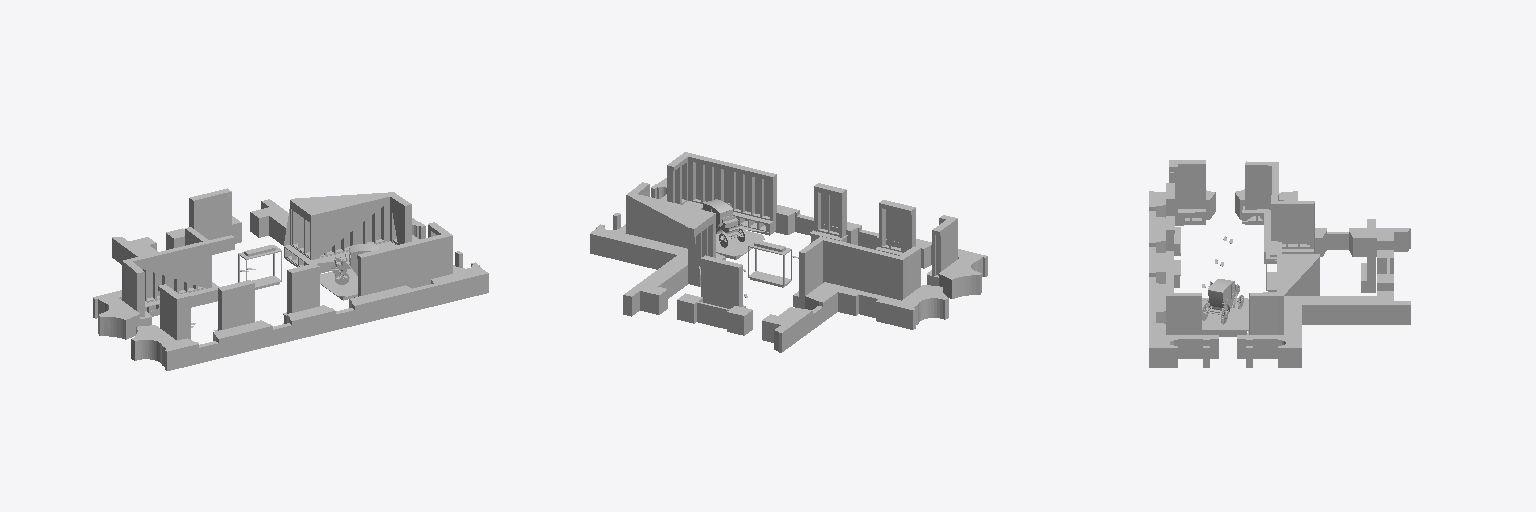
Rendered from 3Dsala.obj.
3 views of the same model, side by side, from view 1: azimuth 30°, elevation 25°; view 2: azimuth 150°, elevation 25°; view 3: azimuth 270°, elevation 25° (orthographic).
Visible parts, largest first — view 1: 12, Object_11_Object_11.001, Object_9_Object_9.001, Object_4_Object_4.001, Object_14_Object_14.001, Object_10_Object_10.001, Object_8_Object_8.001, Object_3_Object_3.001, Object_13_Object_13.001; view 2: 12, Object_10_Object_10.001, Object_4_Object_4.001, Object_13_Object_13.001, Object_9_Object_9.001, Object_3_Object_3.001, Object_11_Object_11.001; view 3: 12, Object_10_Object_10.001, Object_11_Object_11.001, Object_3_Object_3.001, Object_4_Object_4.001, Object_13_Object_13.001, Object_9_Object_9.001, Object_14_Object_14.001.
Part boxes in pixels (x1,y1,x2,y2): 12: (122, 188, 452, 340); Object_11_Object_11.001: (349, 262, 488, 325); Object_9_Object_9.001: (131, 325, 198, 370); Object_4_Object_4.001: (93, 290, 139, 339); Object_14_Object_14.001: (213, 320, 272, 358); Object_10_Object_10.001: (250, 199, 425, 245); Object_8_Object_8.001: (287, 305, 335, 340); Object_3_Object_3.001: (112, 237, 157, 264); Object_13_Object_13.001: (166, 216, 241, 249); 12: (626, 152, 957, 308); Object_10_Object_10.001: (590, 224, 687, 316); Object_4_Object_4.001: (805, 282, 948, 329); Object_13_Object_13.001: (677, 293, 752, 335); Object_9_Object_9.001: (939, 249, 987, 298); Object_3_Object_3.001: (762, 307, 812, 352); Object_11_Object_11.001: (651, 178, 799, 234); 12: (1166, 160, 1375, 336); Object_10_Object_10.001: (1237, 291, 1410, 367); Object_11_Object_11.001: (1149, 283, 1218, 367); Object_3_Object_3.001: (1349, 228, 1410, 256); Object_4_Object_4.001: (1235, 189, 1326, 256); Object_13_Object_13.001: (1377, 250, 1393, 290); Object_9_Object_9.001: (1149, 190, 1215, 219); Object_14_Object_14.001: (1149, 216, 1165, 252).
Bounding box in the file's own units: 26.96 × 4.59 × 18.12.